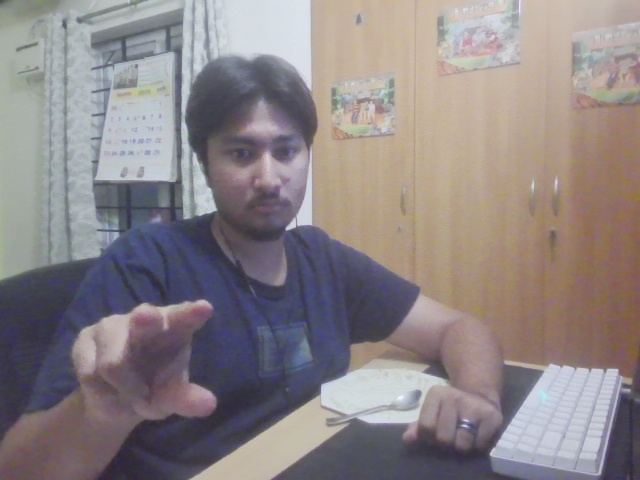no: (67, 297, 225, 432)
